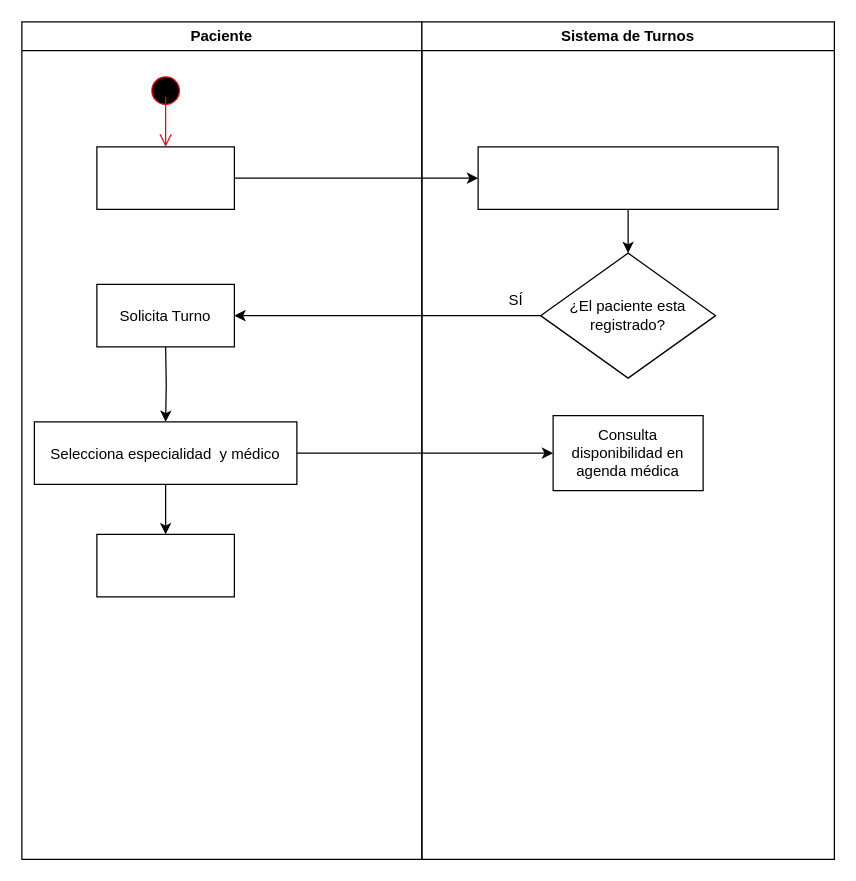
The diagram is 856 pixels wide and 881 high, and some of its shapes have lost their labels. The box of each missing label's shape, as (x1, y1, x2, y2) in pixels:
Accede al sistema: (96, 146, 234, 209)
post command: (96, 533, 234, 597)
Valida que el paciente esté resgistrado: (477, 146, 778, 209)
